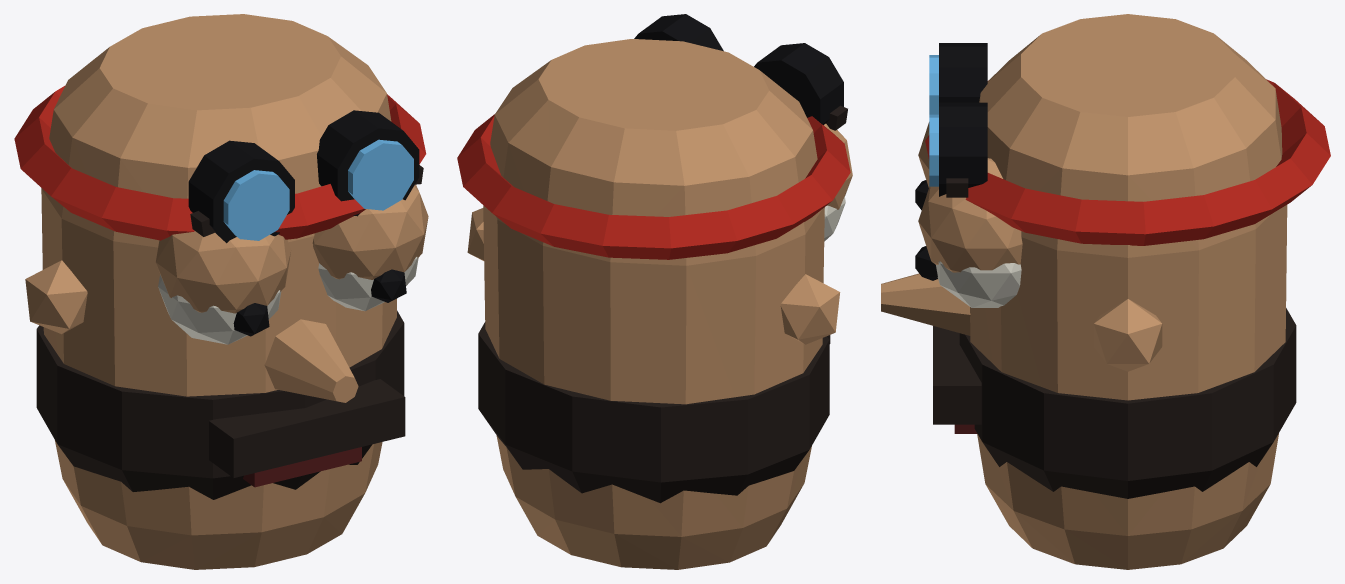
File: PersonSmithHead.obj
The picture shows the model from 3 angles, left to right: view 1: azimuth 30°, elevation 25°; view 2: azimuth 150°, elevation 25°; view 3: azimuth 270°, elevation 25°; orthographic projection. The views are drawn at different scales.
Parts seen in each view (by area): view 1: PersonSmithHead; view 2: PersonSmithHead; view 3: PersonSmithHead.
Part boxes in pixels (x1,y1,x2,y2): PersonSmithHead: (14,14,428,569); PersonSmithHead: (457,14,852,569); PersonSmithHead: (881,14,1330,569).
Size of the model in its own units: 0.355 by 0.405 by 0.3689.
